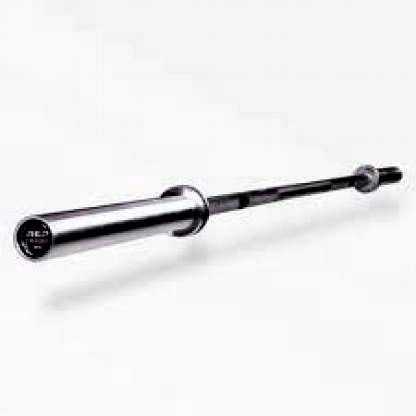Barbell: (8, 206, 64, 270)
